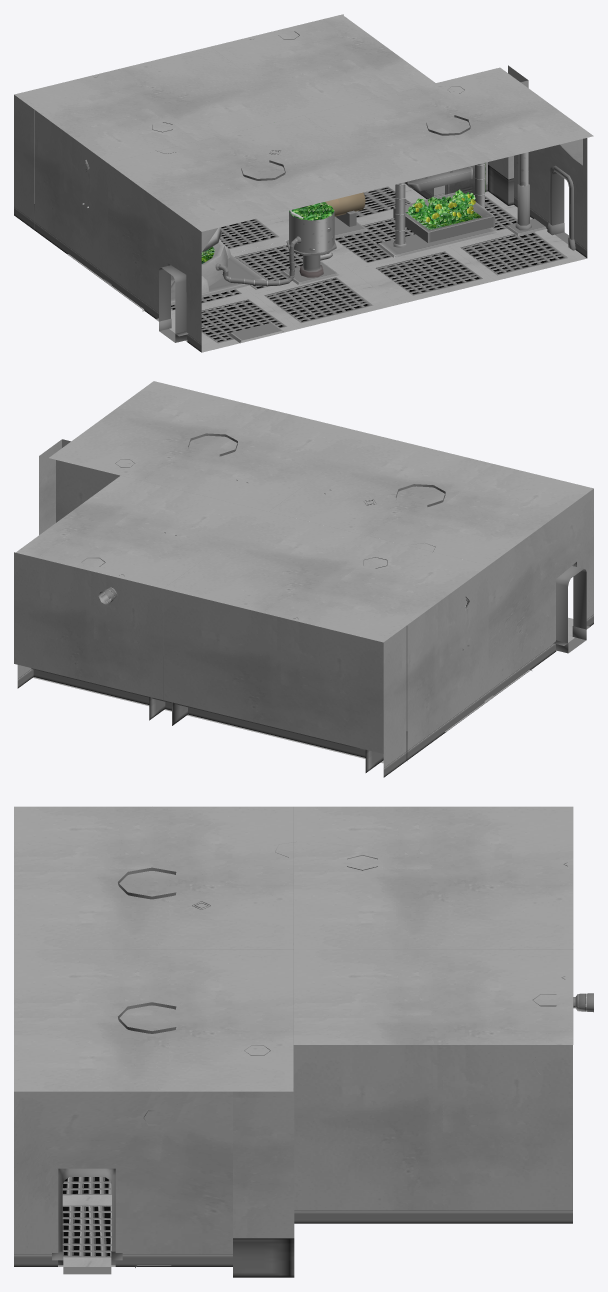
File: MSH_Hydroponic_farm_room_L3_R2_optimized.fbx
3 renders of one model, top to bottom at view 1: azimuth 30°, elevation 25°; view 2: azimuth 150°, elevation 25°; view 3: azimuth 270°, elevation 25°, orthographic. The views are drawn at different scales.
Visible parts, largest first — view 1: lightmap0, lightmap1, lightmap-1; view 2: lightmap0, lightmap1, lightmap-1; view 3: lightmap0, lightmap1, lightmap-1.
Boxes of the visible parts, <box> form: lightmap0: <box>14,14,593,352</box>; lightmap1: <box>34,31,582,342</box>; lightmap-1: <box>159,152,568,342</box>; lightmap0: <box>14,381,593,777</box>; lightmap1: <box>31,433,531,772</box>; lightmap-1: <box>556,566,586,653</box>; lightmap0: <box>14,806,573,1266</box>; lightmap1: <box>118,841,593,1277</box>; lightmap-1: <box>62,1168,111,1274</box>.
Bounding box in the file's own units: 20.86 × 6.02 × 17.13.
